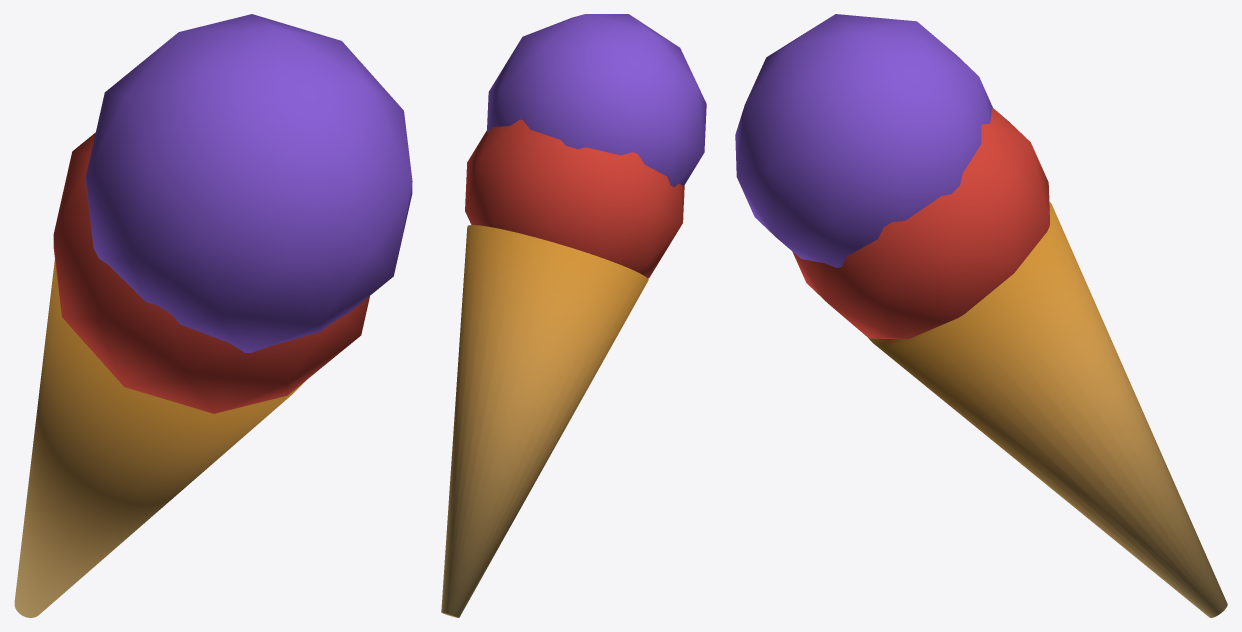
File: ice-cream.glb
3 renders of one model, left to right at view 1: azimuth 30°, elevation 25°; view 2: azimuth 150°, elevation 25°; view 3: azimuth 270°, elevation 25°, orthographic. The views are drawn at different scales.
Parts seen in each view (by area): view 1: Icosphere.001; view 2: Icosphere.001; view 3: Icosphere.001.
Part boxes in pixels (x1,y1,x2,y2): Icosphere.001: [14, 14, 412, 617]; Icosphere.001: [441, 14, 706, 617]; Icosphere.001: [735, 14, 1227, 617].
Size of the model in its own units: 0.1511 by 0.3798 by 0.2867.
